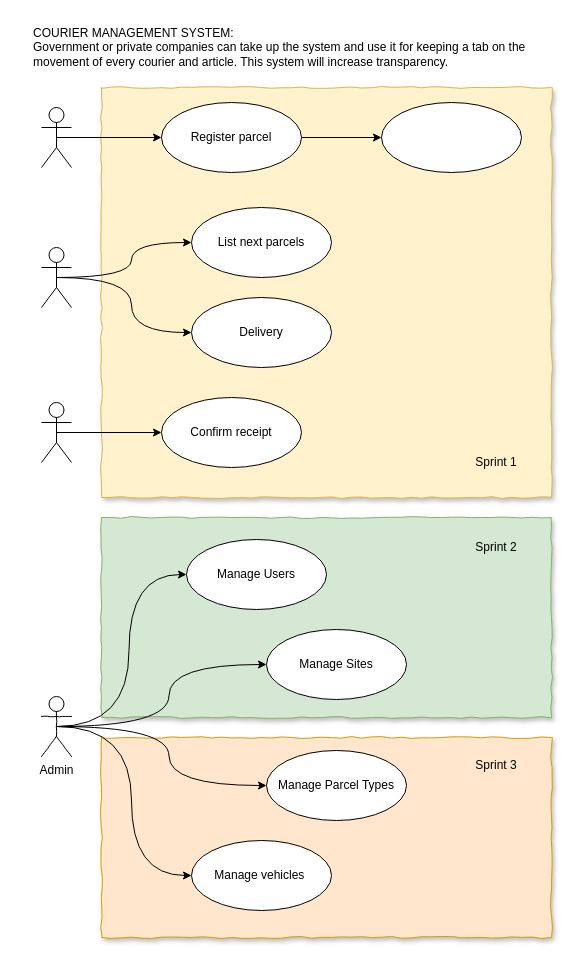
Some shapes in this 575 by 962 pixel diagram are drawn without their labels. The shapes that lost their labels are listed below. From the top down, each one's centre as x and y in pixels, then its label:
At (56,137): "Sender User".
At (451,137): "Schedule withdrawn".
At (56,277): "Courrier".
At (56,432): "Recipient User".
